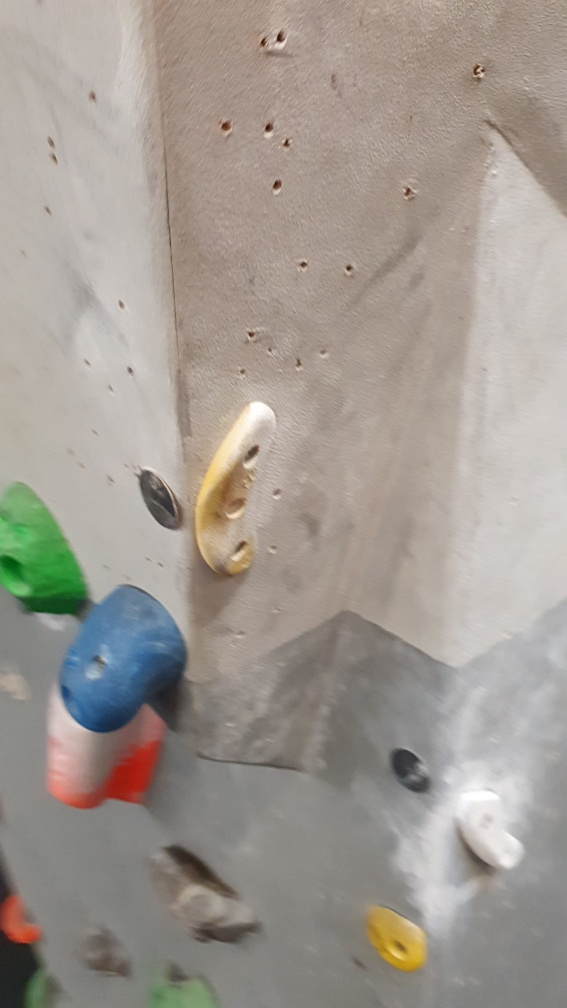Hand Start: (136, 467, 183, 532), (389, 742, 436, 797)
Jug: (145, 834, 268, 947)
Pinch: (41, 655, 174, 809)
